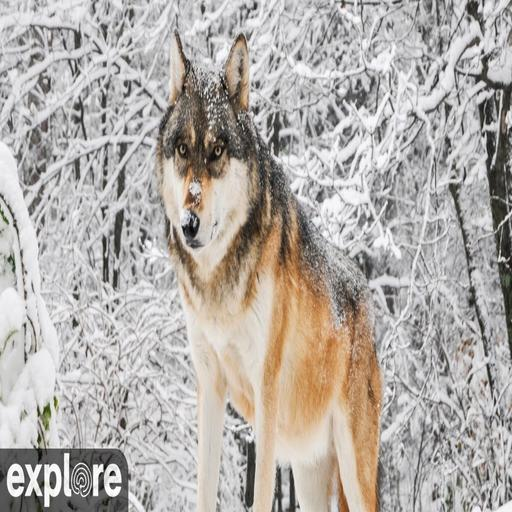Wolf: (152, 29, 385, 508)
